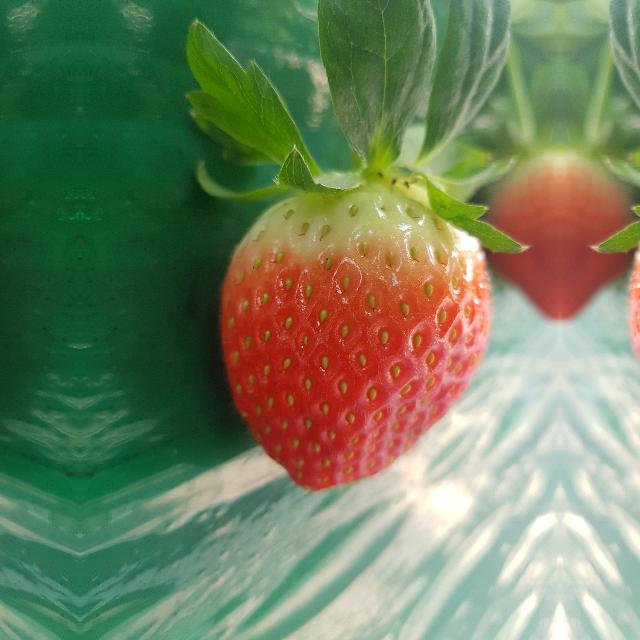Health_100: (218, 194, 494, 492)
